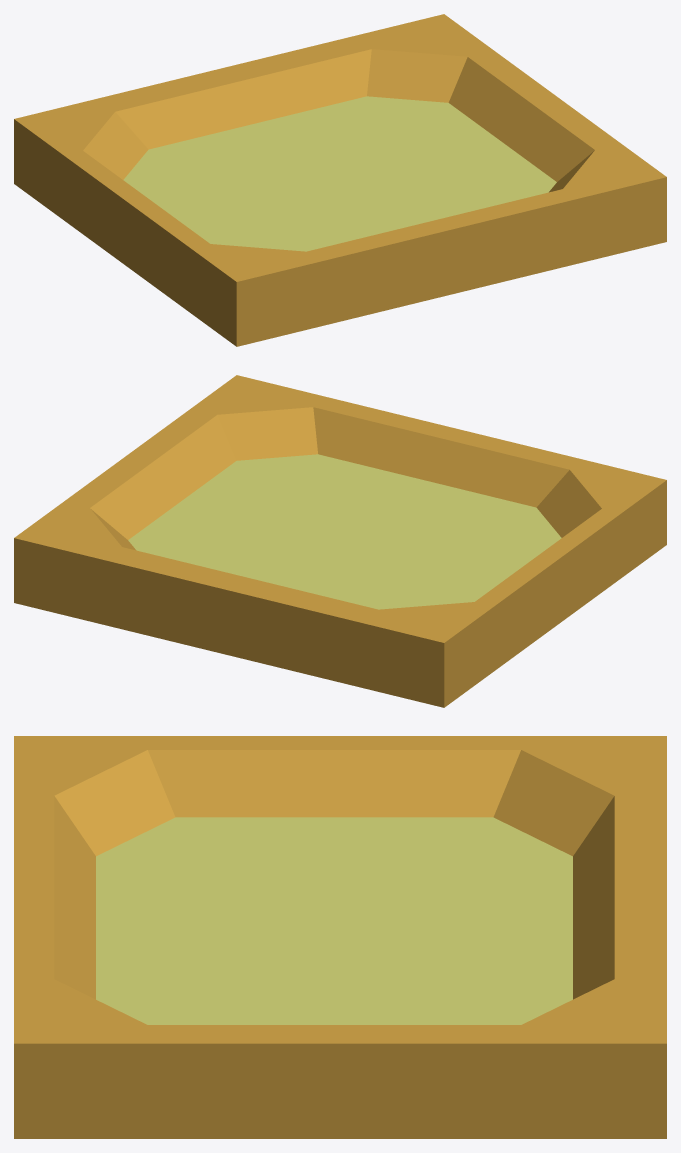
Rendered from Player.fbx.
3 views of the same model, one above another, from view 1: azimuth 30°, elevation 25°; view 2: azimuth 150°, elevation 25°; view 3: azimuth 270°, elevation 25° (orthographic). The views are drawn at different scales.
Parts seen in each view (by area): view 1: Cube; view 2: Cube; view 3: Cube.
Part boxes in pixels (x1,y1,x2,y2): Cube: (14, 14, 666, 346); Cube: (14, 375, 666, 707); Cube: (14, 736, 666, 1138).
Size of the model in its own units: 587 by 84.57 by 526.
